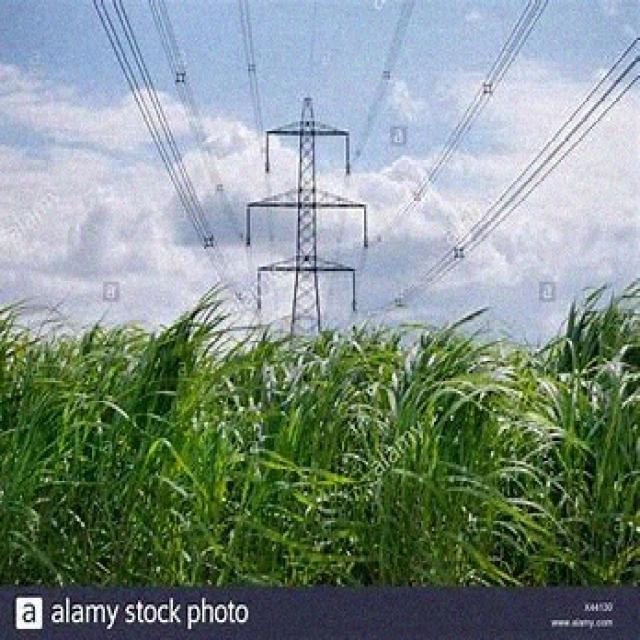utility poles: (212, 44, 385, 590)
